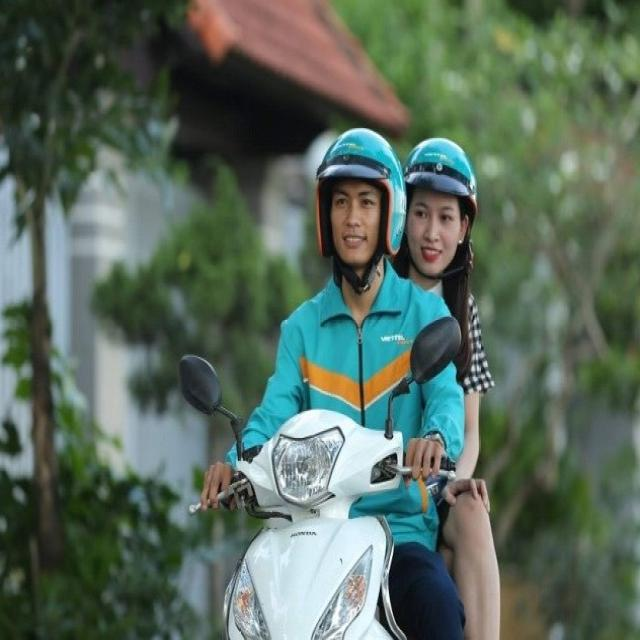helmet: (315, 127, 408, 258), (402, 137, 480, 215)
